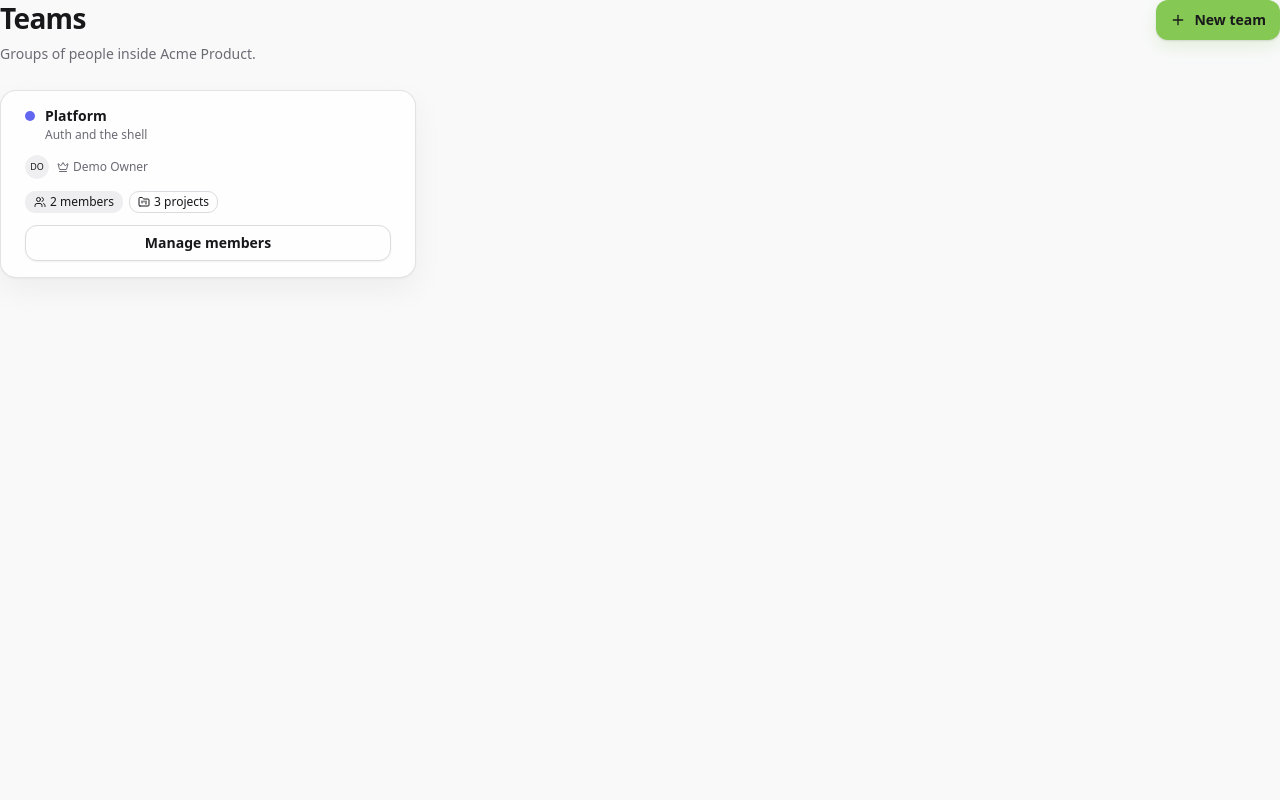
Test: TeamsPage › the roster › marks the lead on the roster
Click the button "Manage members" at [208, 243], box left=25, top=225, right=391, bottom=261
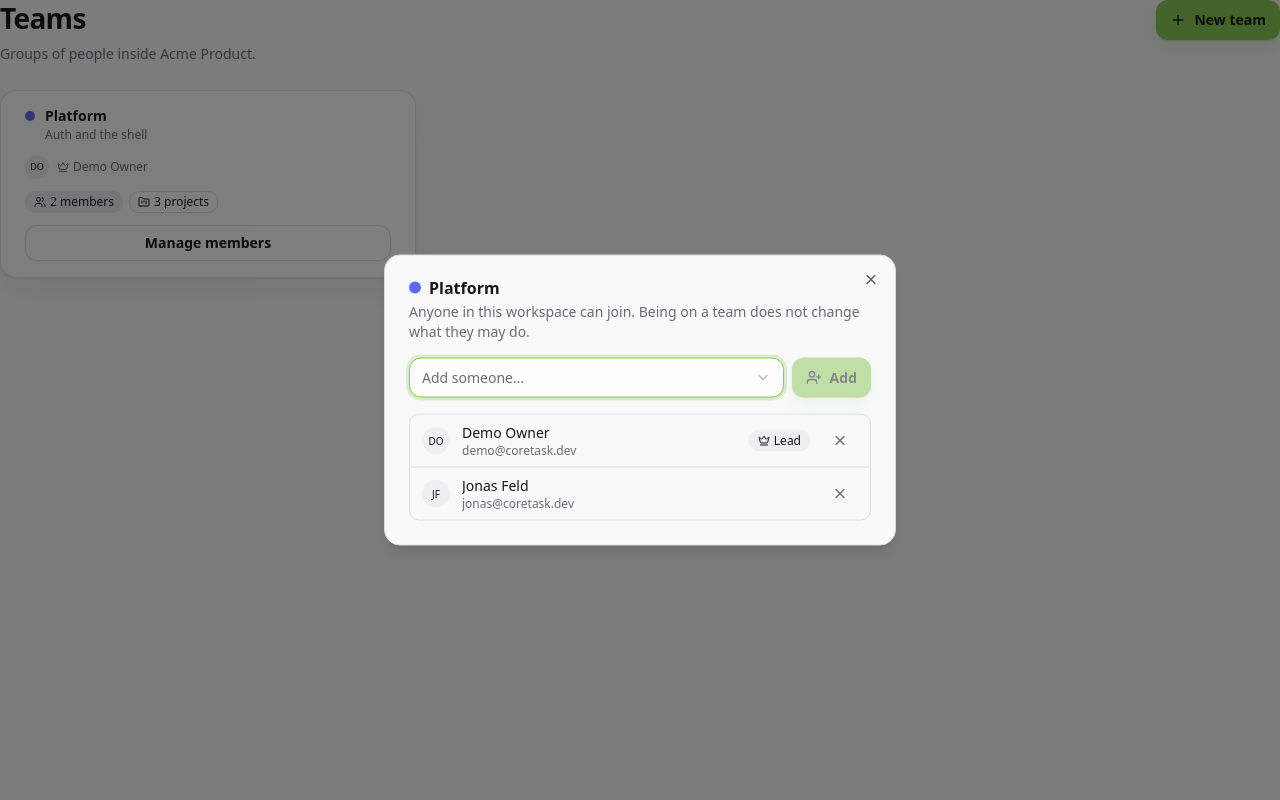
expect the text "Lead" is shown: met, box left=749, top=430, right=810, bottom=452
